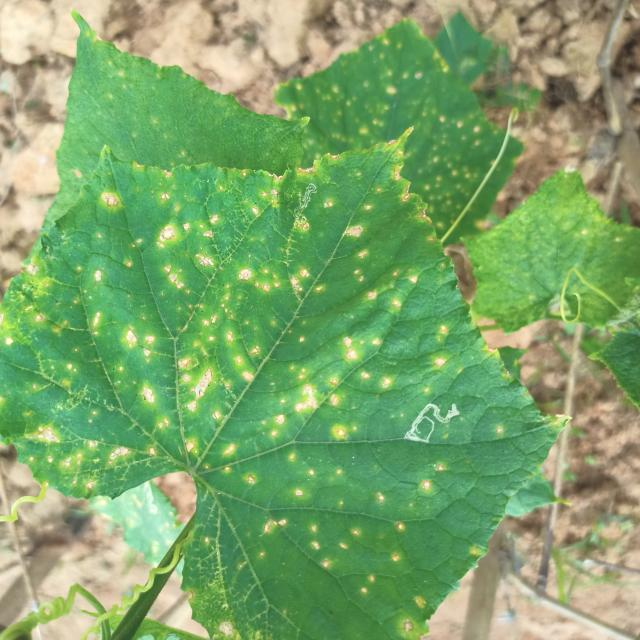disease_cucumber: (28, 160, 508, 610)
